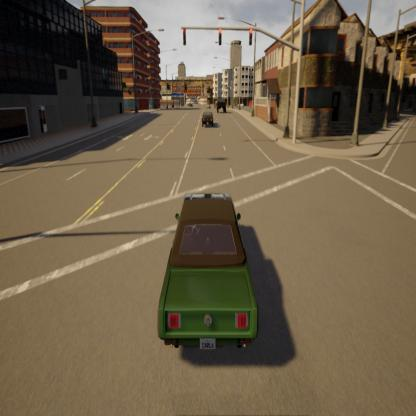Cars: (149, 171, 265, 364), (198, 105, 217, 128), (214, 96, 229, 112)
